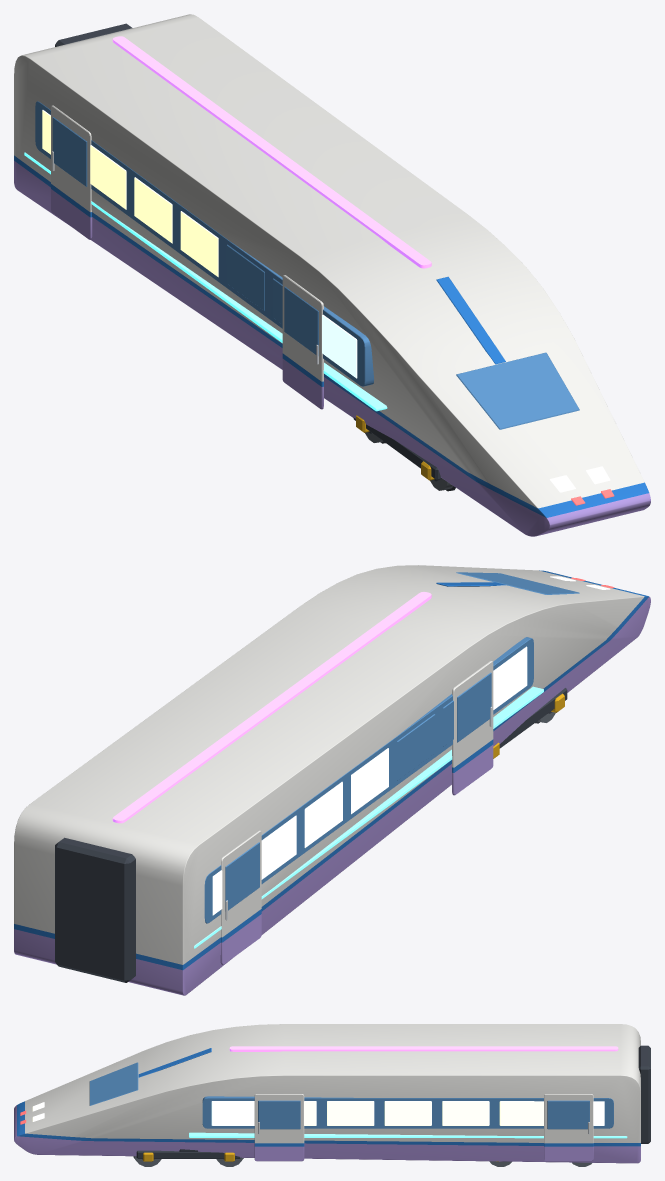
File: trem_tubo_frente.glb
The picture shows the model from 3 angles, top to bottom: view 1: azimuth 30°, elevation 25°; view 2: azimuth 150°, elevation 25°; view 3: azimuth 270°, elevation 25°; orthographic projection. The views are drawn at different scales.
Parts seen in each view (by area): view 1: trem_tubo_frente, porta_correr_1, porta_correr_2; view 2: trem_tubo_frente, porta_correr_1, porta_correr_2; view 3: trem_tubo_frente, porta_correr_3, porta_correr_4.
Boxes of the visible parts, bbox=[...] form: trem_tubo_frente: bbox=[14, 14, 650, 536]; porta_correr_1: bbox=[282, 275, 323, 409]; porta_correr_2: bbox=[51, 105, 92, 239]; trem_tubo_frente: bbox=[14, 565, 650, 995]; porta_correr_1: bbox=[452, 661, 493, 795]; porta_correr_2: bbox=[220, 830, 261, 964]; trem_tubo_frente: bbox=[14, 1024, 650, 1163]; porta_correr_3: bbox=[254, 1094, 304, 1161]; porta_correr_4: bbox=[544, 1094, 593, 1161].
Bounding box in the file's own units: 2.79 × 2.52 × 14.09.
Materials: 8 (1 with a texture image).
